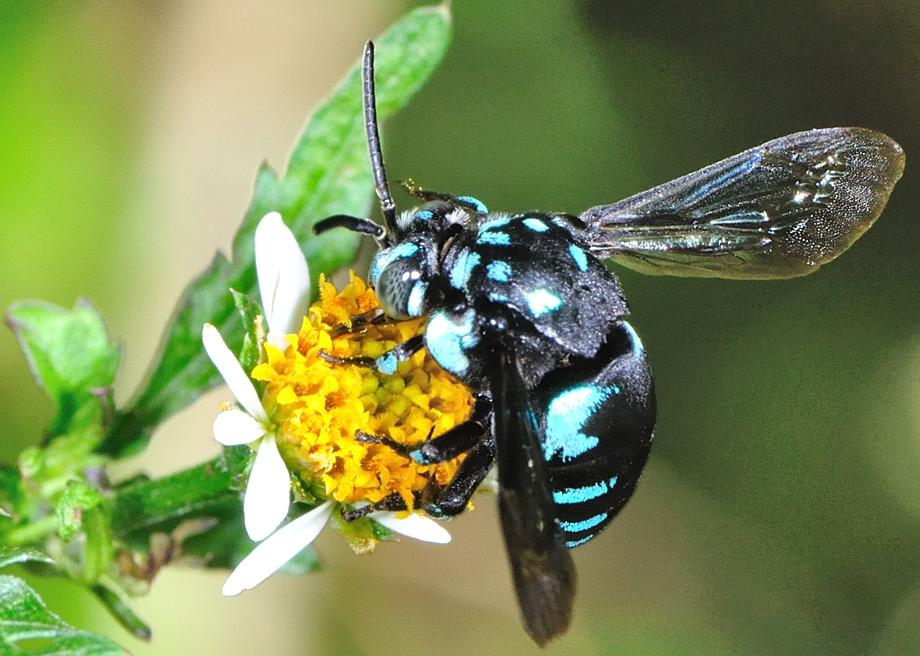Thyreus: (309, 30, 906, 655)
